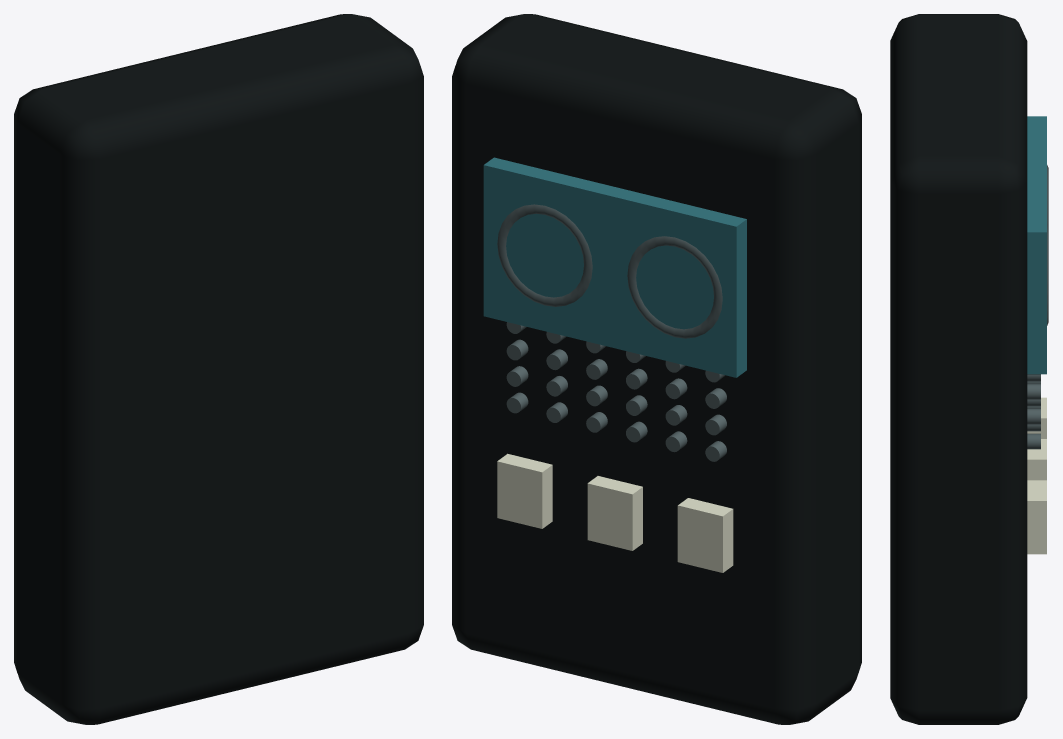
Rendered from Recorder.obj.
3 renders of one model, left to right at view 1: azimuth 30°, elevation 25°; view 2: azimuth 150°, elevation 25°; view 3: azimuth 270°, elevation 25°, orthographic. The views are drawn at different scales.
Visible parts, largest first — view 1: Recorder; view 2: Recorder; view 3: Recorder.
Part boxes in pixels (<box>): Recorder: <box>14,14,423,724</box>; Recorder: <box>452,14,861,724</box>; Recorder: <box>890,14,1048,724</box>.
Bounding box in the file's own units: 0.2 × 0.32 × 0.081.
